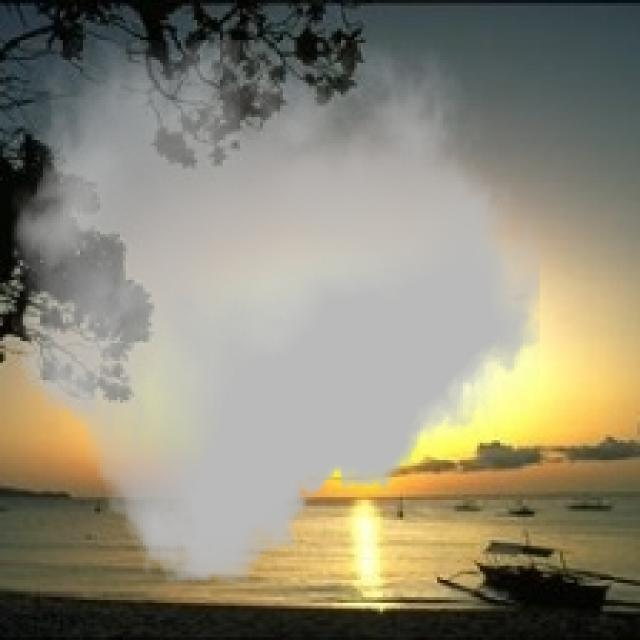smoke: (11, 40, 540, 583)
